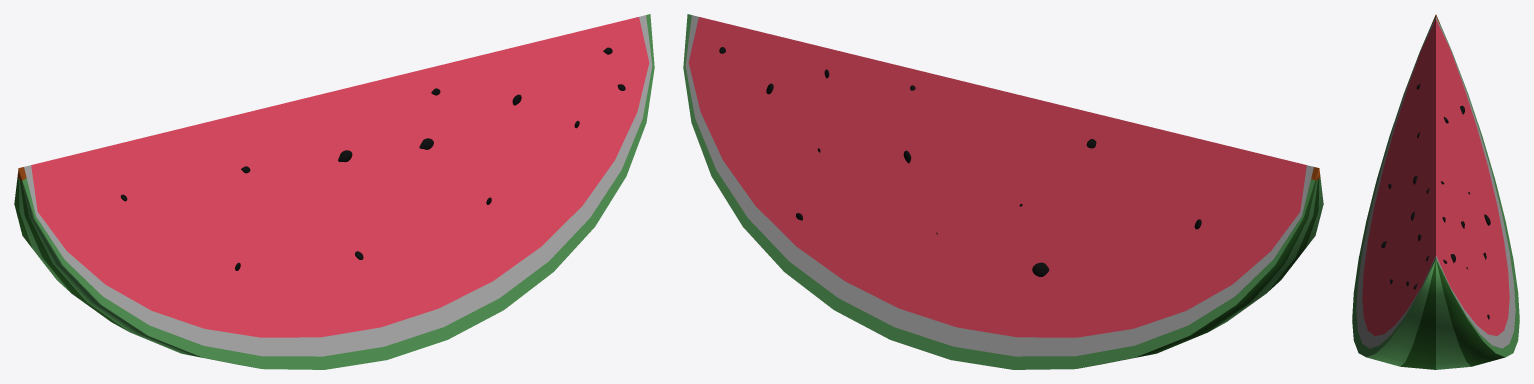
File: AA2793_Melon_piece_final.fbx
The picture shows the model from 3 angles, left to right: view 1: azimuth 30°, elevation 25°; view 2: azimuth 150°, elevation 25°; view 3: azimuth 270°, elevation 25°; orthographic projection. The views are drawn at different scales.
Parts seen in each view (by area): view 1: Melon_piece; view 2: Melon_piece; view 3: Melon_piece.
Part boxes in pixels (bbox=[...]): Melon_piece: bbox=[14, 14, 654, 369]; Melon_piece: bbox=[683, 14, 1323, 369]; Melon_piece: bbox=[1352, 14, 1519, 369].
Bounding box in the file's own units: 100 × 265 × 76.54.
